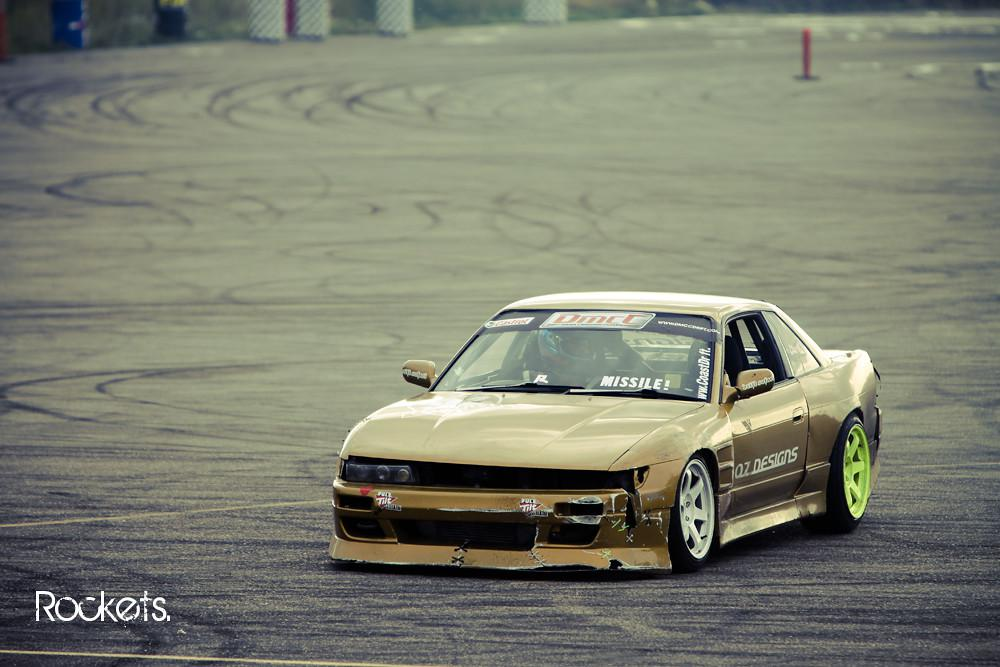front-bumper-dent: (334, 457, 655, 568)
